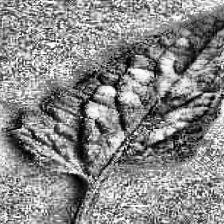leaf mold: (15, 0, 224, 178)
